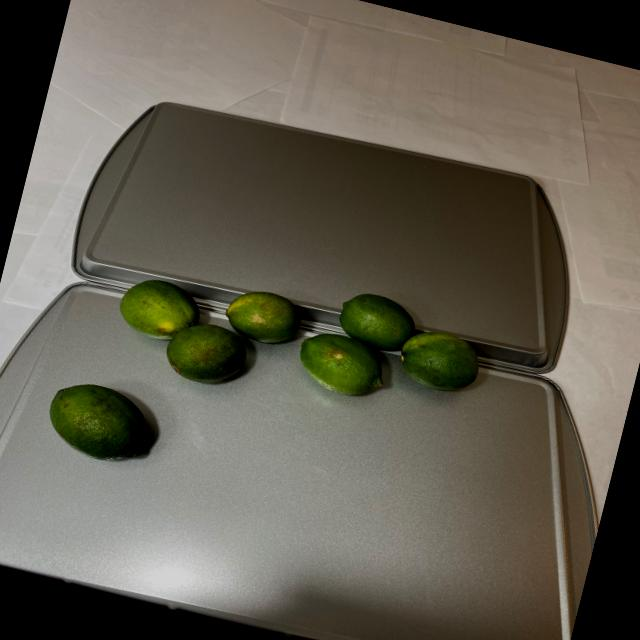lemon: (100, 233, 492, 447), (38, 371, 162, 472)
